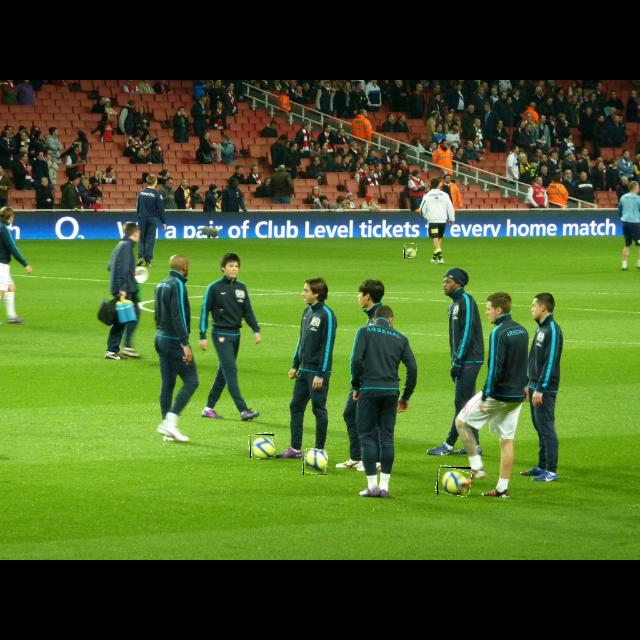Football: (437, 467, 471, 495), (303, 449, 327, 475), (250, 434, 274, 458), (404, 244, 416, 258)
